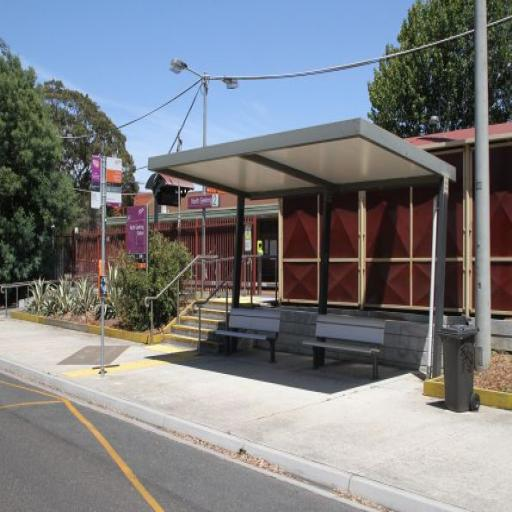clear_path: (6, 326, 505, 503)
handrail: (145, 256, 204, 348), (195, 276, 232, 355)
platform_edge: (16, 363, 427, 499)
signage: (88, 156, 123, 370), (128, 204, 149, 262), (187, 194, 220, 210)
tgsi: (62, 344, 198, 378)
